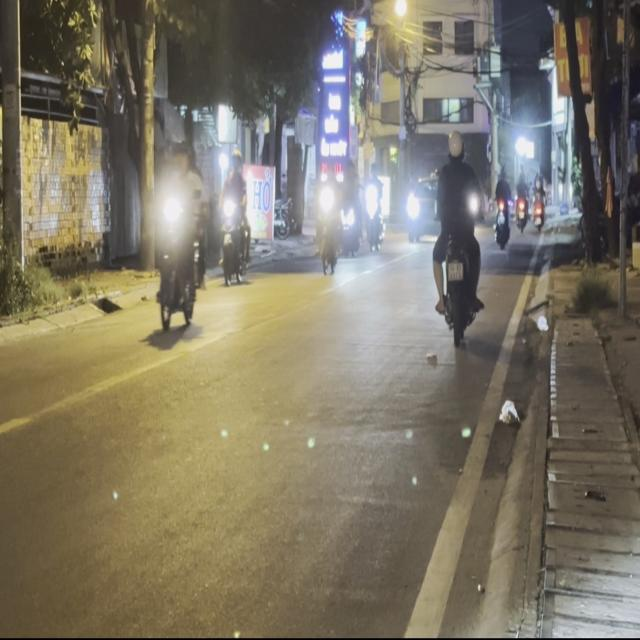helmet: (447, 128, 463, 158)
licenseplate: (150, 115, 208, 338), (429, 127, 484, 344)
nohelmet: (447, 260, 463, 279)
